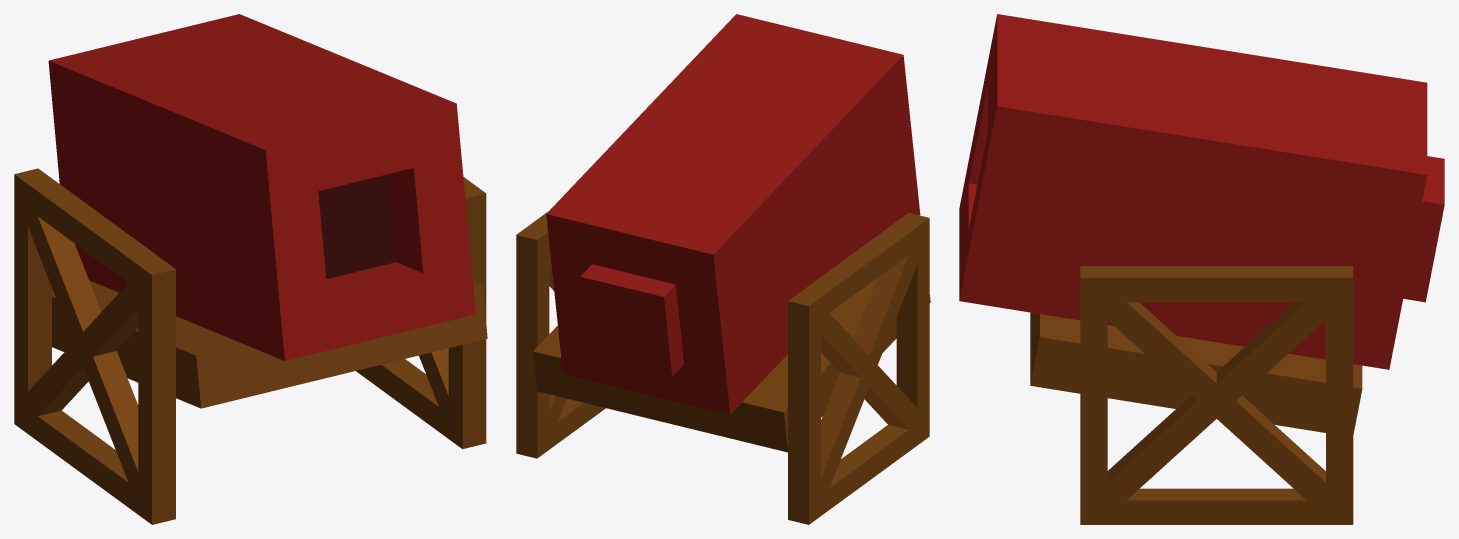
The model's file is Cannon.fbx.
The picture shows the model from 3 angles, left to right: view 1: azimuth 30°, elevation 25°; view 2: azimuth 150°, elevation 25°; view 3: azimuth 270°, elevation 25°; orthographic projection. The views are drawn at different scales.
Visible parts, largest first — view 1: Cube.015, Cube.010, Cube.002, Cube.004, Cube.018; view 2: Cube.015, Cube.010, Cube.002, Cube.019, Cube.004; view 3: Cube.015, Cube.004, Cube.002, Cube.019.
Part boxes in pixels (x1,y1,x2,y2): Cube.015: (48,14,475,360); Cube.010: (14,168,175,524); Cube.002: (52,280,487,408); Cube.004: (356,177,486,449); Cube.018: (318,174,395,278); Cube.015: (546,14,920,414); Cube.010: (788,213,929,524); Cube.002: (533,279,930,452); Cube.019: (580,264,683,376); Cube.004: (516,211,605,458); Cube.015: (959,14,1427,369); Cube.004: (1080,266,1353,524); Cube.002: (1030,312,1362,434); Cube.019: (1403,156,1444,302).
Size of the model in its own units: 140 by 155 by 178.
